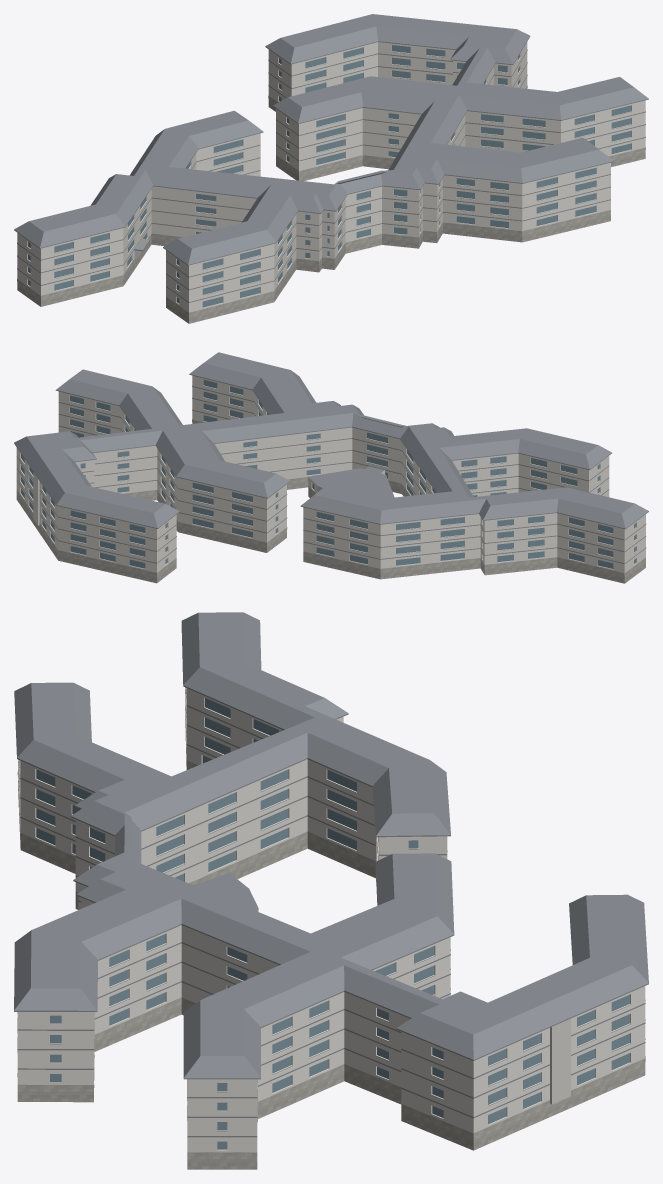
The picture shows the model from 3 angles, top to bottom: view 1: azimuth 30°, elevation 25°; view 2: azimuth 150°, elevation 25°; view 3: azimuth 270°, elevation 25°; orthographic projection. The views are drawn at different scales.
Parts seen in each view (by area): view 1: sejongGwanE8__wall, sejongGwanE8__roofAccent, sejongGwanE8__glass, sejongGwanE8__base, sejongGwanE8__trim; view 2: sejongGwanE8__wall, sejongGwanE8__roofAccent, sejongGwanE8__glass, sejongGwanE8__trim, sejongGwanE8__base, sejongGwanE8__roof; view 3: sejongGwanE8__roofAccent, sejongGwanE8__wall, sejongGwanE8__glass, sejongGwanE8__base, sejongGwanE8__trim, sejongGwanE8__wall2, sejongGwanE8__roof.
Part boxes in pixels (x1,y1,x2,y2): sejongGwanE8__wall: (17,42,645,312); sejongGwanE8__roofAccent: (14,14,648,264); sejongGwanE8__glass: (28,45,631,307); sejongGwanE8__base: (17,85,645,323); sejongGwanE8__trim: (14,36,648,302); sejongGwanE8__wall: (16,375,645,575); sejongGwanE8__roofAccent: (14,352,648,528); sejongGwanE8__glass: (21,379,636,568); sejongGwanE8__trim: (14,374,648,563); sejongGwanE8__base: (16,419,645,583); sejongGwanE8__roof: (309,466,394,498); sejongGwanE8__roofAccent: (14,612,648,1078); sejongGwanE8__wall: (17,687,645,1152); sejongGwanE8__glass: (36,698,629,1149); sejongGwanE8__base: (17,707,645,1169); sejongGwanE8__trim: (14,632,648,1137); sejongGwanE8__wall2: (550,1018,570,1104); sejongGwanE8__roof: (193,872,258,911).
Bounding box in the file's own units: 181 × 19.94 × 106.
Materials: 10 (1 with a texture image).
